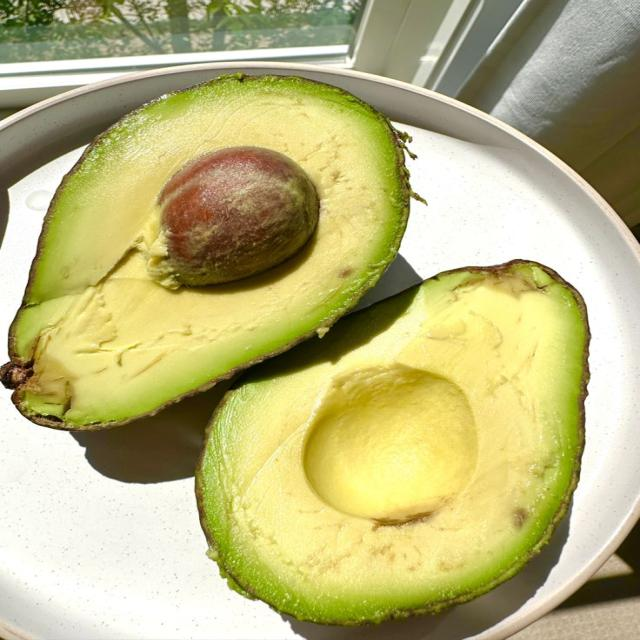avocado: (0, 76, 410, 429), (197, 261, 588, 623)
